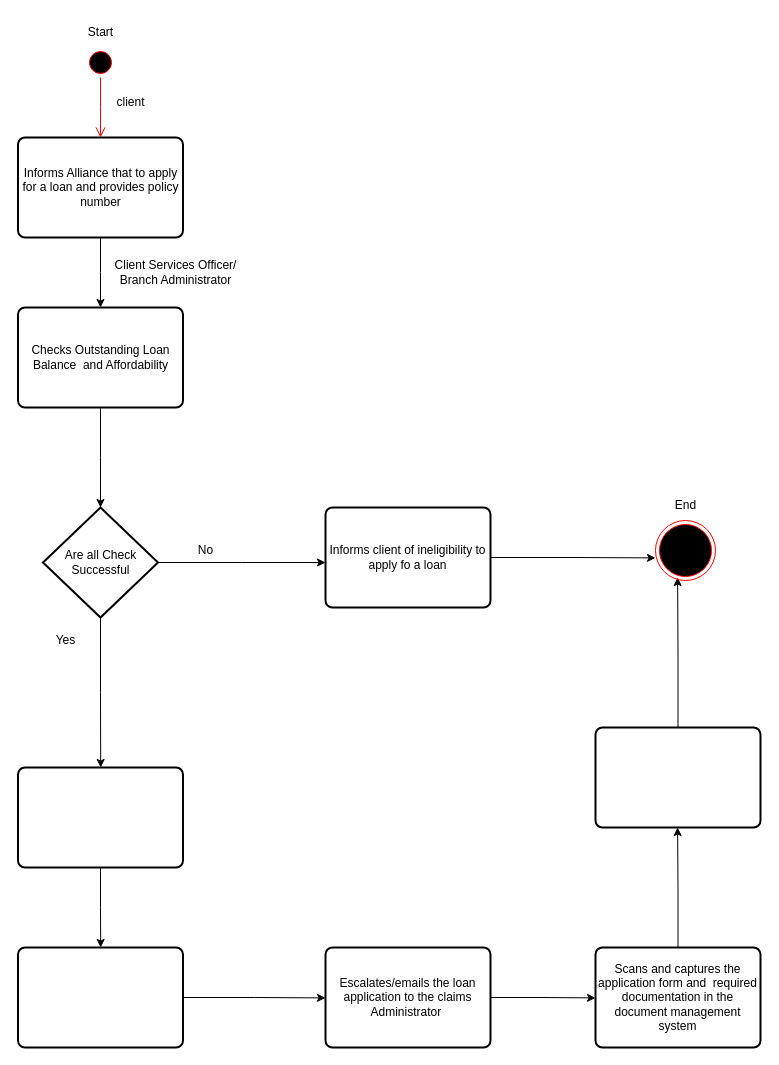
Some shapes in this 779 by 1065 pixel diagram are drawn without their labels. Each missing label, with the centre of its shape:
Checks the loan application form and the required documentation: pixel 100 997
Completes loan application form and provides the required documentation: pixel 100 817
Sends forms for off-side storage: pixel 677 777
